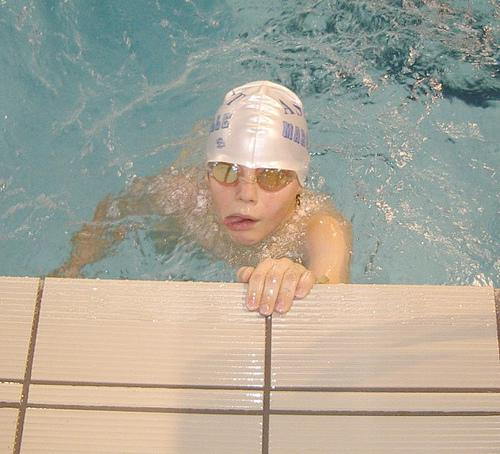human: (46, 78, 360, 302)
